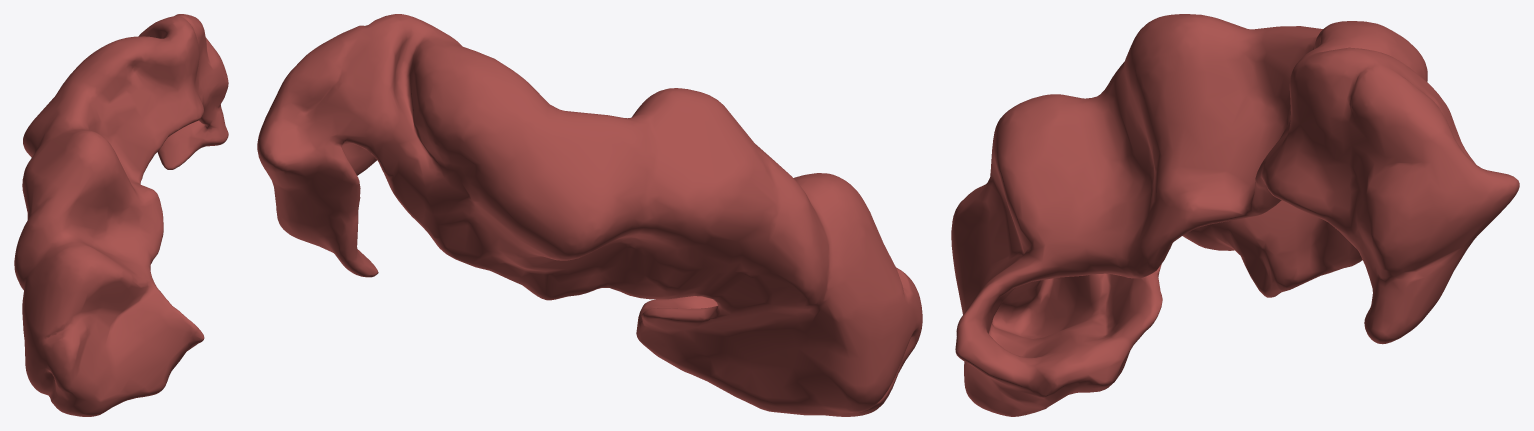
Rendered from FMA72665.glb.
3 views of the same model, side by side, from view 1: azimuth 30°, elevation 25°; view 2: azimuth 150°, elevation 25°; view 3: azimuth 270°, elevation 25° (orthographic). The views are drawn at different scales.
Visible parts, largest first — view 1: FMA72665; view 2: FMA72665; view 3: FMA72665.
Boxes of the visible parts, box(x1,y1,x2,y2) form: FMA72665: box(14, 14, 228, 416); FMA72665: box(257, 14, 922, 416); FMA72665: box(951, 14, 1519, 416).
Bounding box in the file's own units: 0.0632 × 0.0566 × 0.0602.
